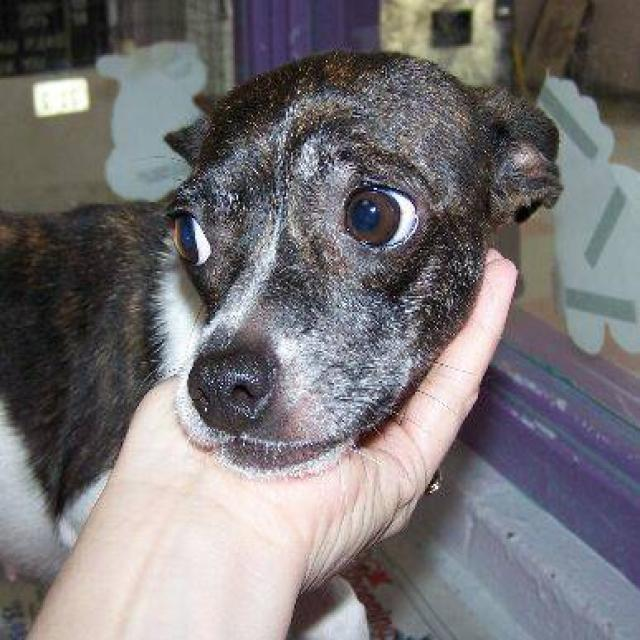Dog: (148, 56, 570, 483)
